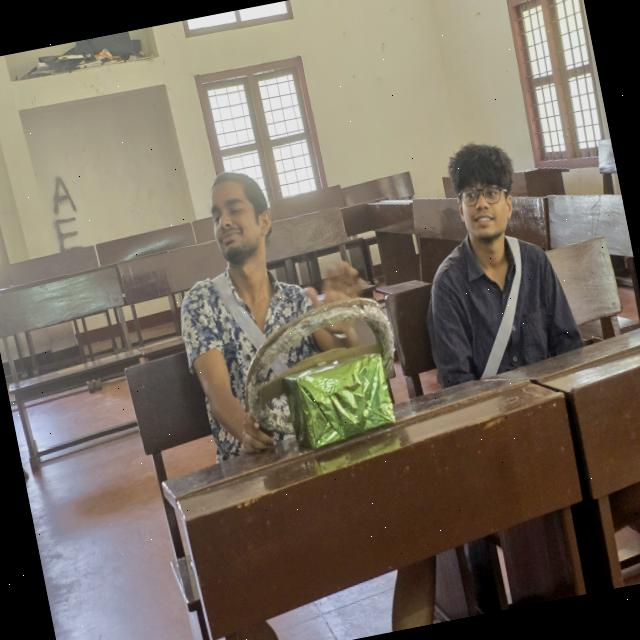seatbelt: (188, 258, 334, 441), (431, 226, 572, 392)
